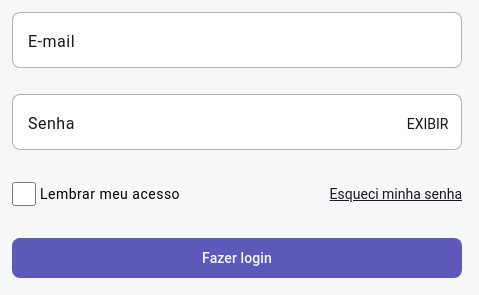
Test: <LoginForm/> › should render error messages fields required
Click the button "Fazer login" at (237, 258), box [12, 238, 462, 278]
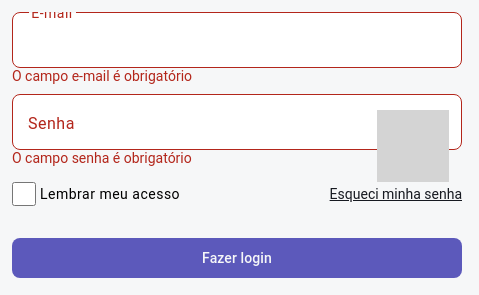
Result: the text "O campo e-mail é obrigatório" is shown at [12, 68, 192, 84]
Result: the text "O campo senha é obrigatório" is shown at [12, 150, 192, 166]
